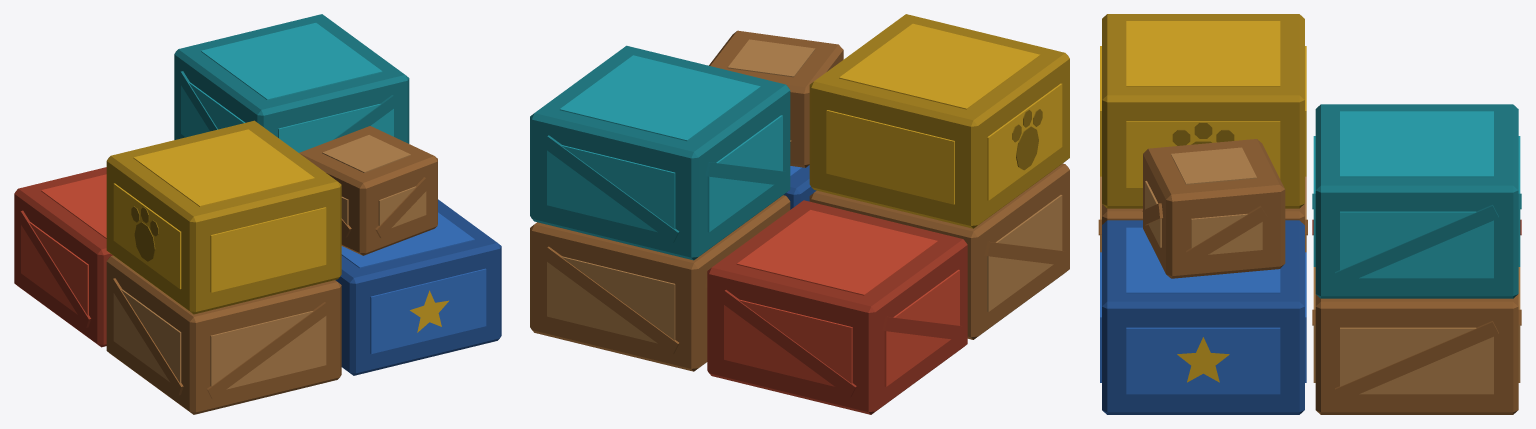
File: toy-block.glb
3 views of the same model, side by side, from view 1: azimuth 30°, elevation 25°; view 2: azimuth 150°, elevation 25°; view 3: azimuth 270°, elevation 25° (orthographic). The views are drawn at different scales.
Visible parts, largest first — view 1: toy-block; view 2: toy-block; view 3: toy-block.
Part boxes in pixels (left/top/right/bottom): toy-block: left=14, top=14, right=501, bottom=414; toy-block: left=530, top=14, right=1069, bottom=414; toy-block: left=1098, top=14, right=1521, bottom=414.
Size of the model in its own units: 1.99 by 1.2 by 1.98.
